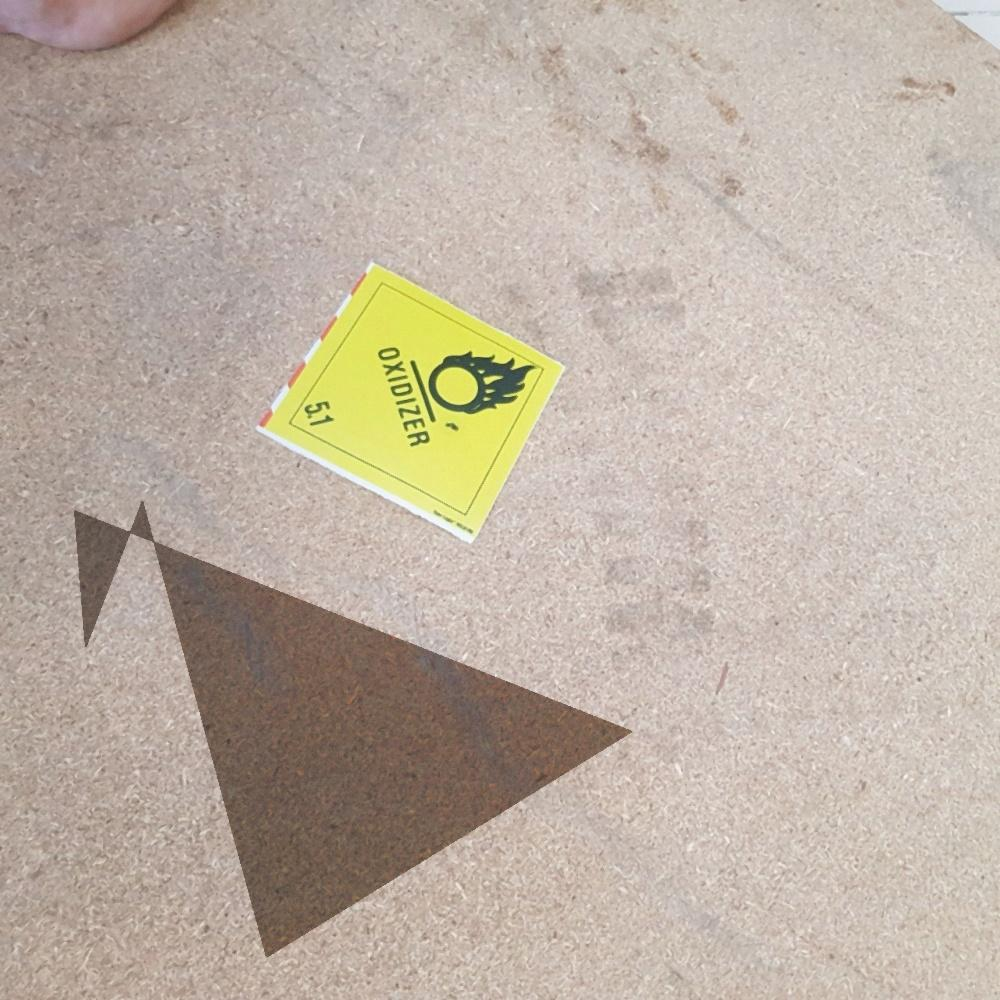oxidizer: (255, 265, 562, 543)
